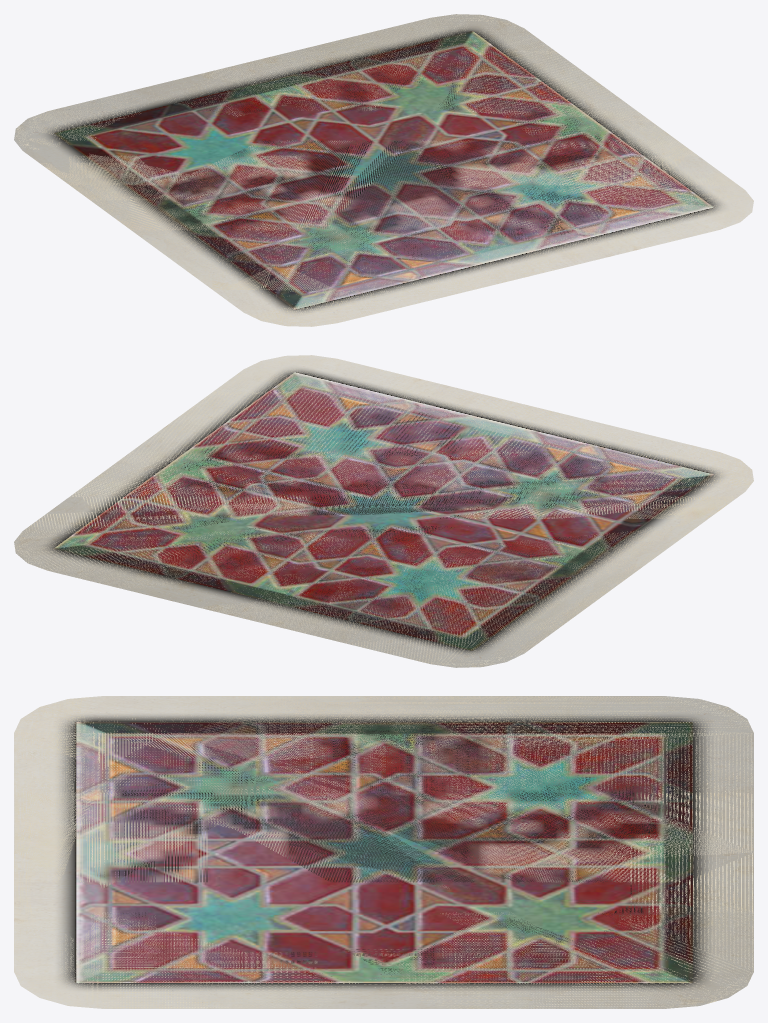
The model's file is card7.fbx.
The picture shows the model from 3 angles, top to bottom: view 1: azimuth 30°, elevation 25°; view 2: azimuth 150°, elevation 25°; view 3: azimuth 270°, elevation 25°; orthographic projection. The views are drawn at different scales.
Visible parts, largest first — view 1: polySurface1; view 2: polySurface1; view 3: polySurface1.
Part boxes in pixels (x1=…): polySurface1: x1=14, y1=14, x2=753, y2=326; polySurface1: x1=14, y1=355, x2=753, y2=667; polySurface1: x1=14, y1=696, x2=753, y2=1008.
Size of the model in its own units: 1 by 0 by 1.
